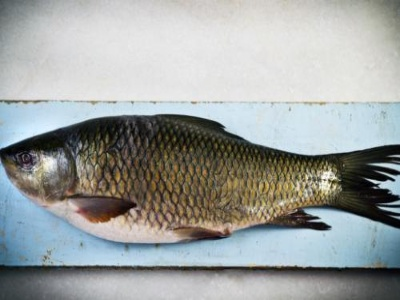rohu: (2, 109, 400, 248)
